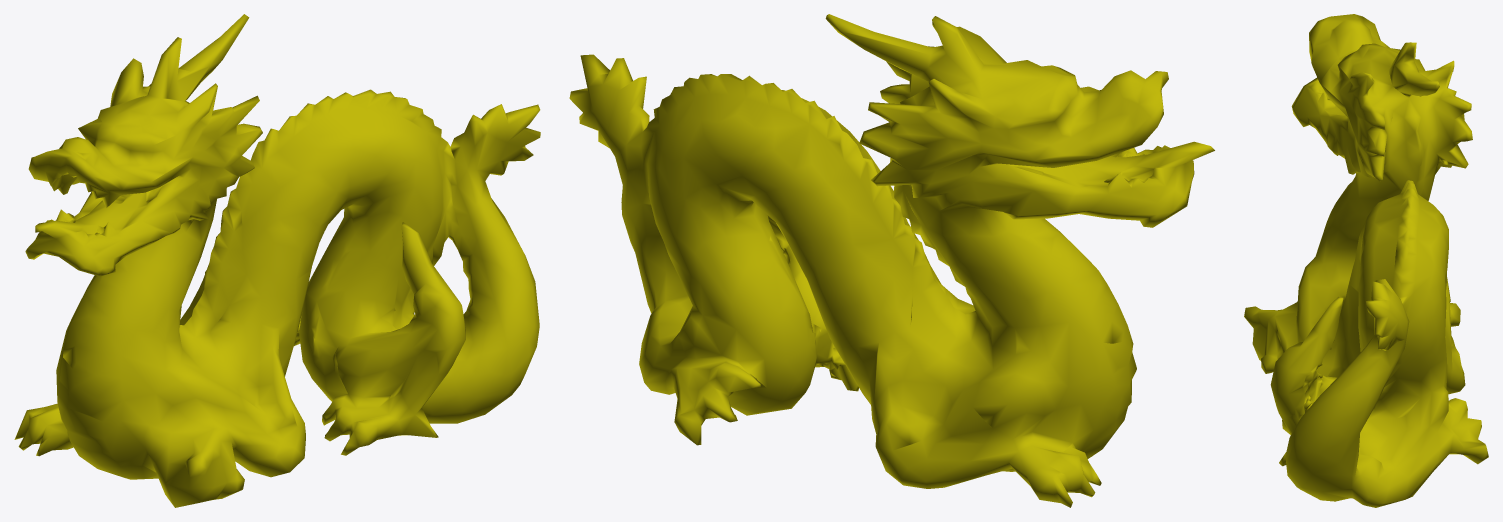
The model's file is simpledragon.fbx.
The picture shows the model from 3 angles, left to right: view 1: azimuth 30°, elevation 25°; view 2: azimuth 150°, elevation 25°; view 3: azimuth 270°, elevation 25°; orthographic projection. The views are drawn at different scales.
Visible parts, largest first — view 1: dragon; view 2: dragon; view 3: dragon.
Part boxes in pixels (x1,y1,x2,y2): dragon: (14, 14, 540, 507); dragon: (569, 14, 1214, 507); dragon: (1244, 14, 1488, 507).
Bounding box in the file's own units: 1410 × 994 × 630.
